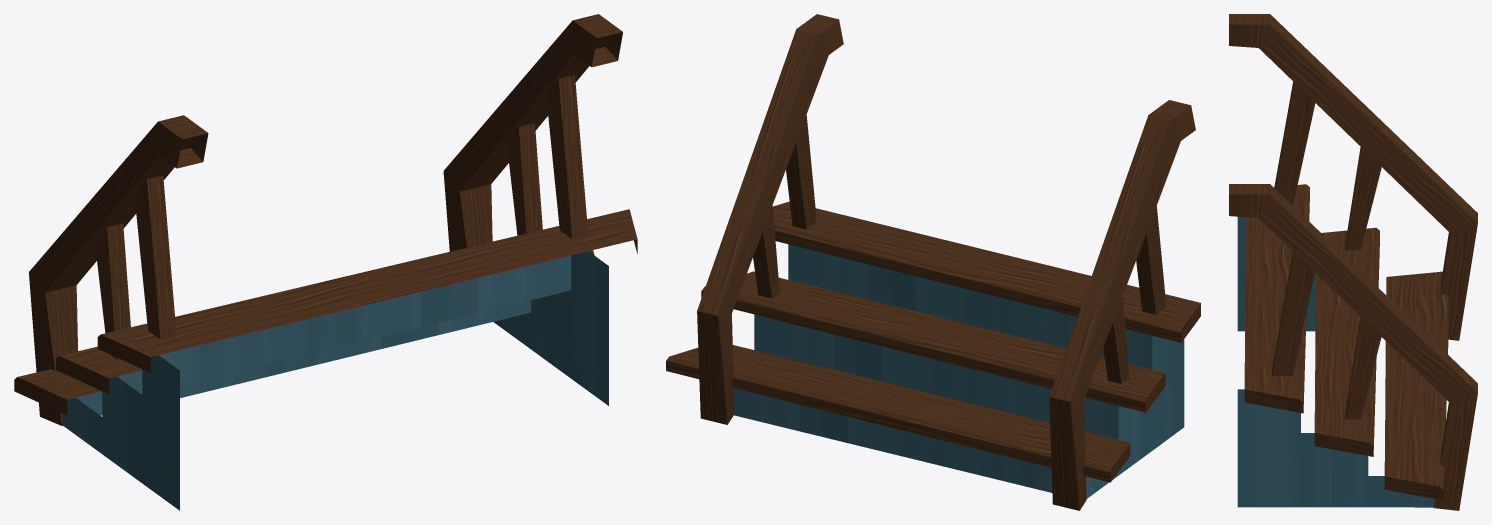
Rendered from Stairs.fbx.
3 renders of one model, left to right at view 1: azimuth 30°, elevation 25°; view 2: azimuth 150°, elevation 25°; view 3: azimuth 270°, elevation 25°, orthographic. The views are drawn at different scales.
Parts seen in each view (by area): view 1: Midnight_Antics_House_Build_V1.001; view 2: Midnight_Antics_House_Build_V1.001; view 3: Midnight_Antics_House_Build_V1.001.
Boxes of the visible parts, bbox=[...] form: Midnight_Antics_House_Build_V1.001: bbox=[14, 14, 637, 510]; Midnight_Antics_House_Build_V1.001: bbox=[666, 14, 1200, 510]; Midnight_Antics_House_Build_V1.001: bbox=[1229, 14, 1477, 510].
Size of the model in its own units: 28969 by 19752 by 14084.
